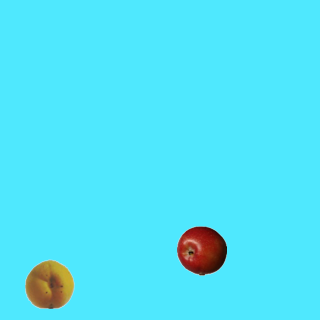Apple Braeburn: (176, 225, 226, 275)
Peach 2: (24, 258, 74, 308)
